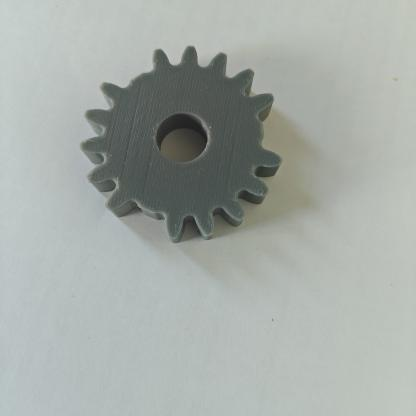defect: (92, 174, 186, 256), (90, 31, 175, 112), (236, 87, 306, 180)
gear: (72, 20, 310, 282)
